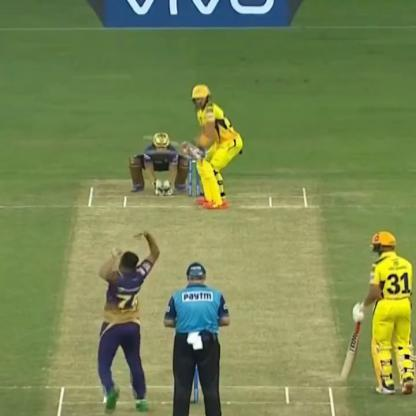ball: (105, 249, 124, 262)
bat: (140, 129, 207, 161)
pitch: (46, 173, 336, 416)
